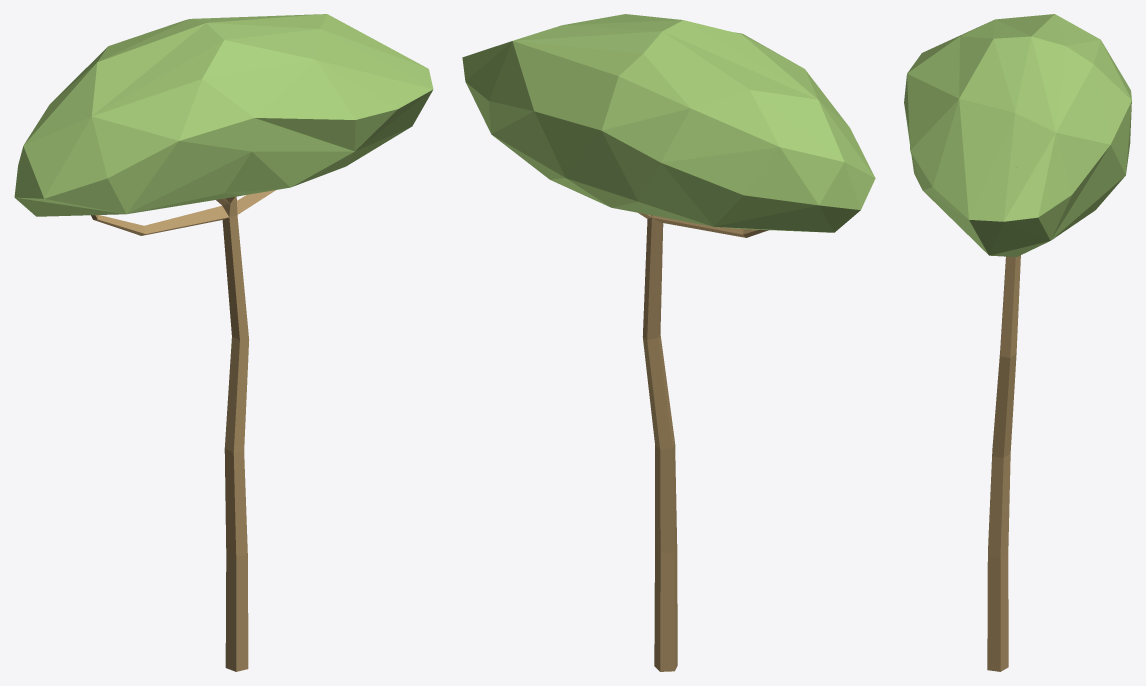
Rendered from Acacia_Tree_m_03_LOD.fbx.
3 renders of one model, left to right at view 1: azimuth 30°, elevation 25°; view 2: azimuth 150°, elevation 25°; view 3: azimuth 270°, elevation 25°, orthographic. The views are drawn at different scales.
Parts seen in each view (by area): view 1: Acacia_Tree_m_03_LOD0; view 2: Acacia_Tree_m_03_LOD0; view 3: Acacia_Tree_m_03_LOD0.
Boxes of the visible parts, <box> form: Acacia_Tree_m_03_LOD0: <box>14,14,433,671</box>; Acacia_Tree_m_03_LOD0: <box>462,14,875,671</box>; Acacia_Tree_m_03_LOD0: <box>904,14,1131,671</box>.
Size of what is drawn, in the model's own units: 549 by 830 by 275.
